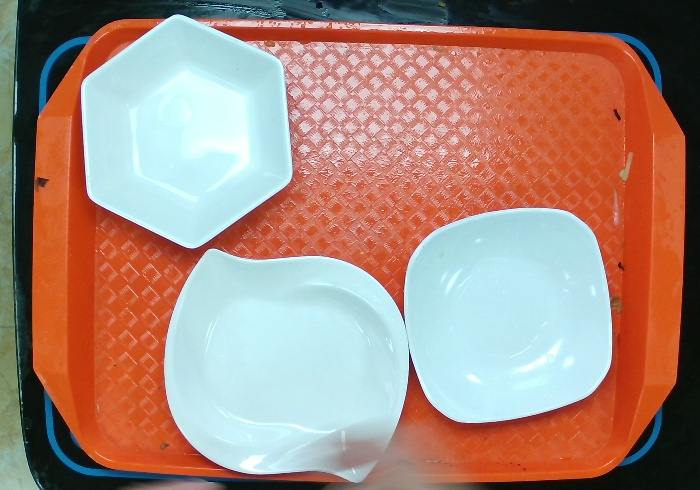RJxy-Liu_Jiao_Wan: (74, 9, 293, 247)
RJxy-Shuang_Jiao_Pan: (157, 243, 414, 490)
RJxy-Si_Fang_Wan: (398, 202, 619, 425)
